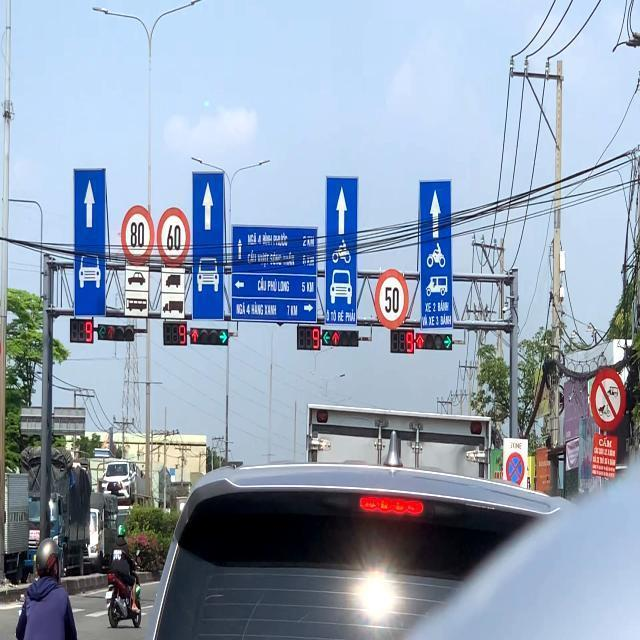127-toc-do-toi-da-50: (374, 269, 410, 327)
127-toc-do-toi-da-60: (159, 206, 189, 258)
127-toc-do-toi-da-80: (122, 207, 156, 259)
130-cam-dung-va-do-xe: (508, 453, 526, 483)
